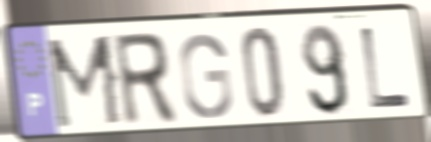0: (239, 24, 290, 122)
9: (299, 21, 353, 119)
G: (176, 31, 235, 121)
L: (358, 24, 414, 111)
M: (43, 32, 126, 134)
R: (110, 29, 181, 131)
